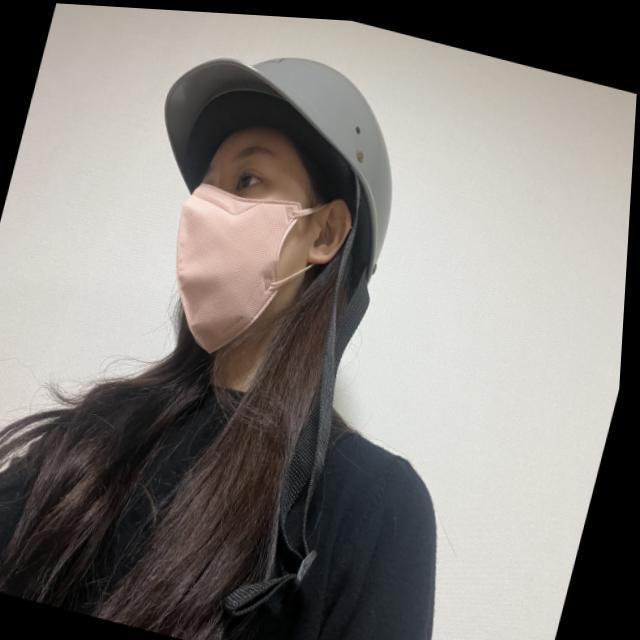Helmet: (131, 50, 399, 370)
